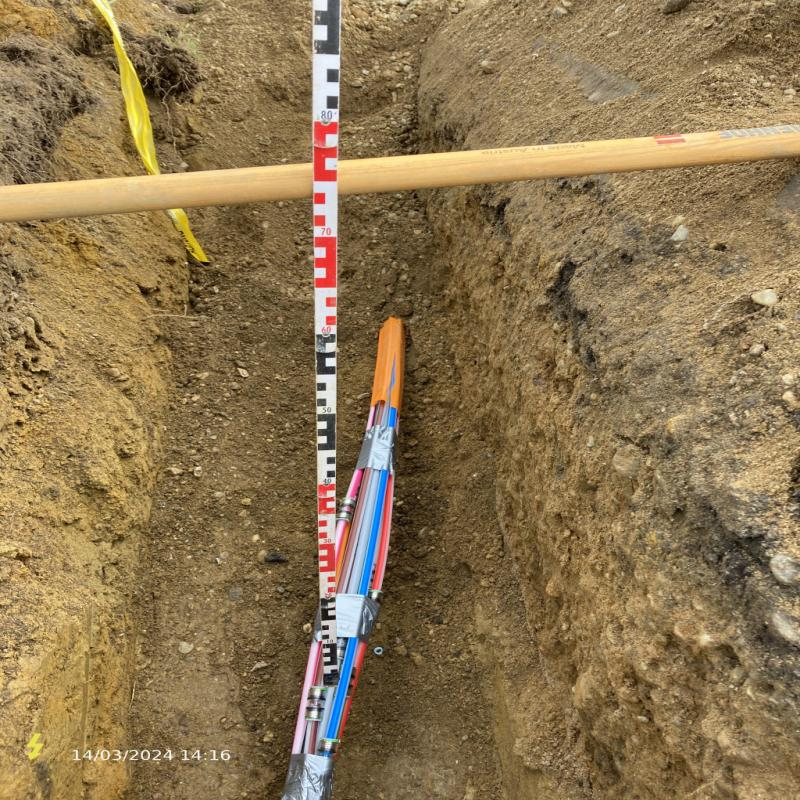Orang-Speednetrohrchen: (336, 316, 405, 555)
